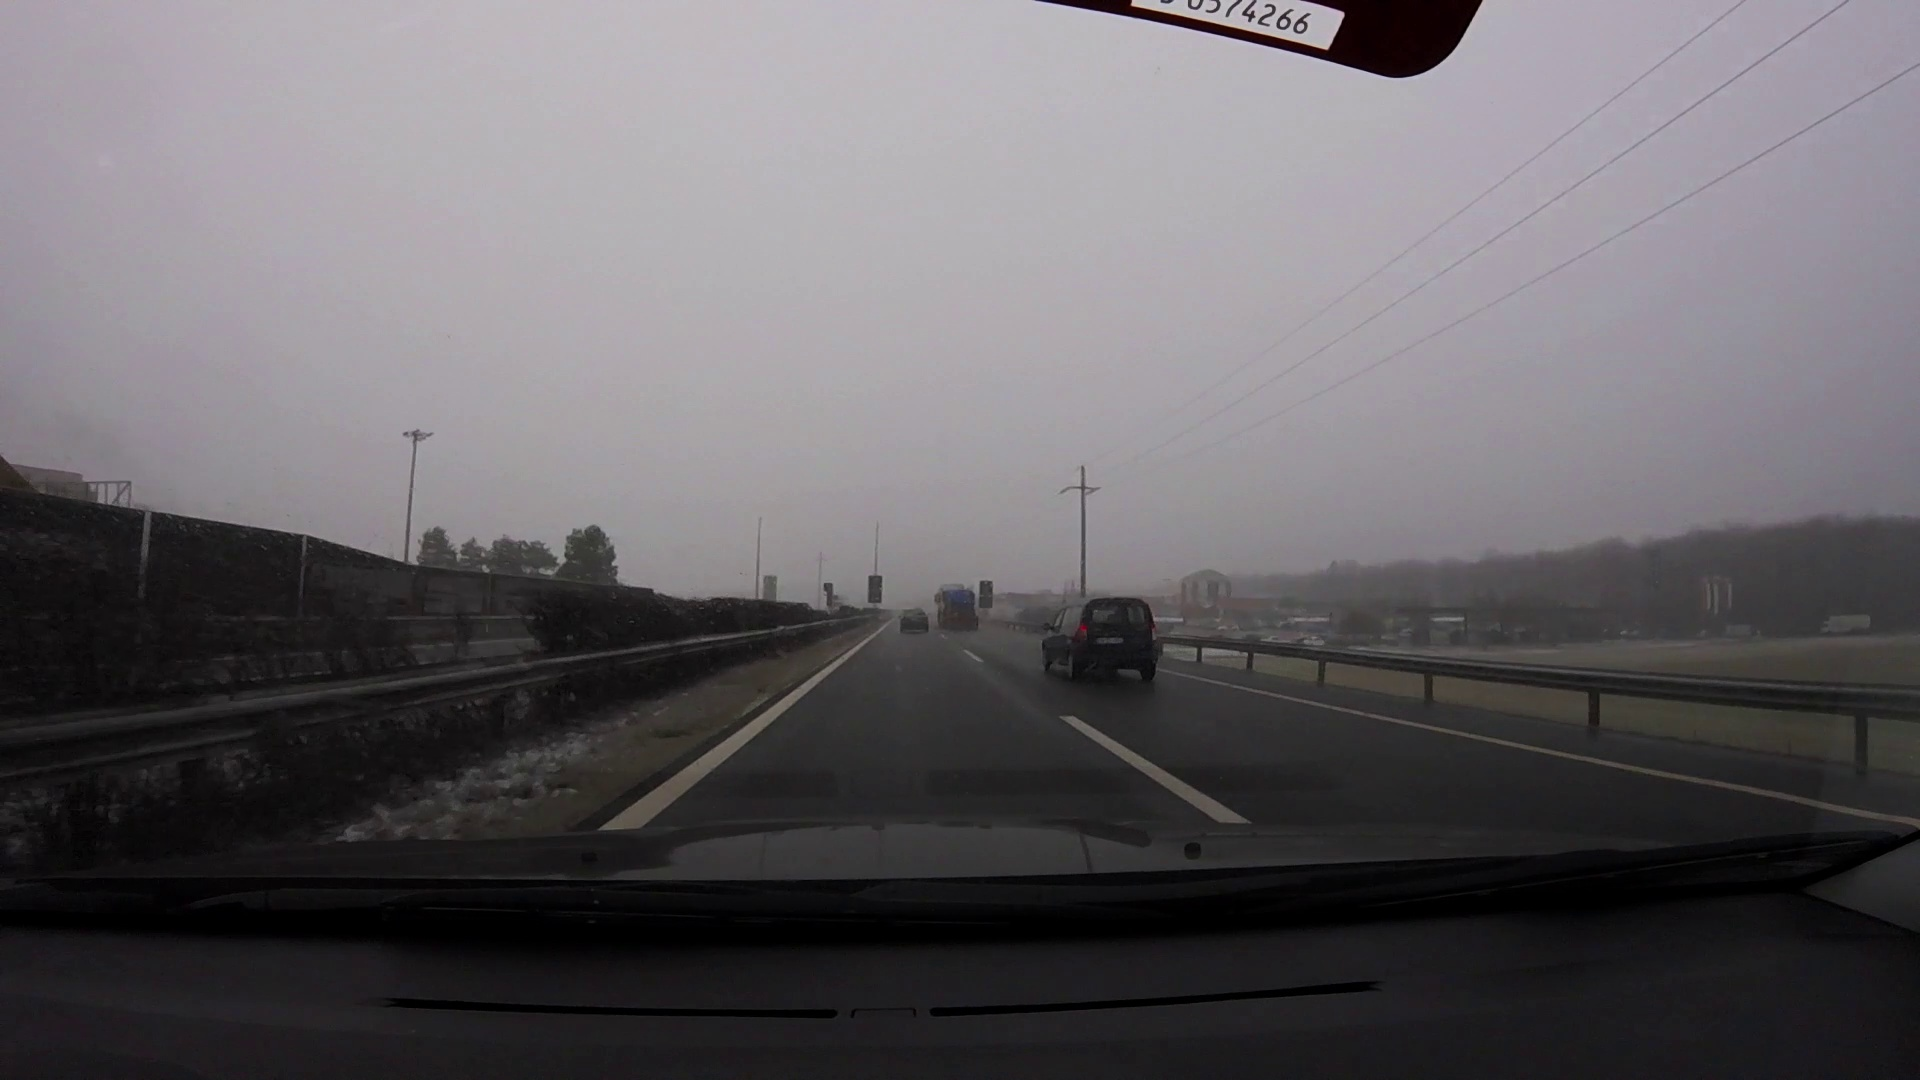radar: (823, 582, 836, 612)
